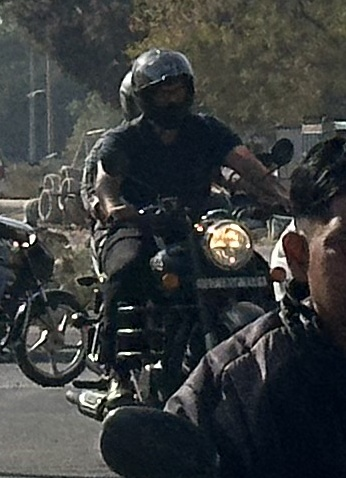BikeWithRider: (59, 41, 302, 454)
Helmet: (131, 45, 204, 130), (112, 62, 165, 131)
